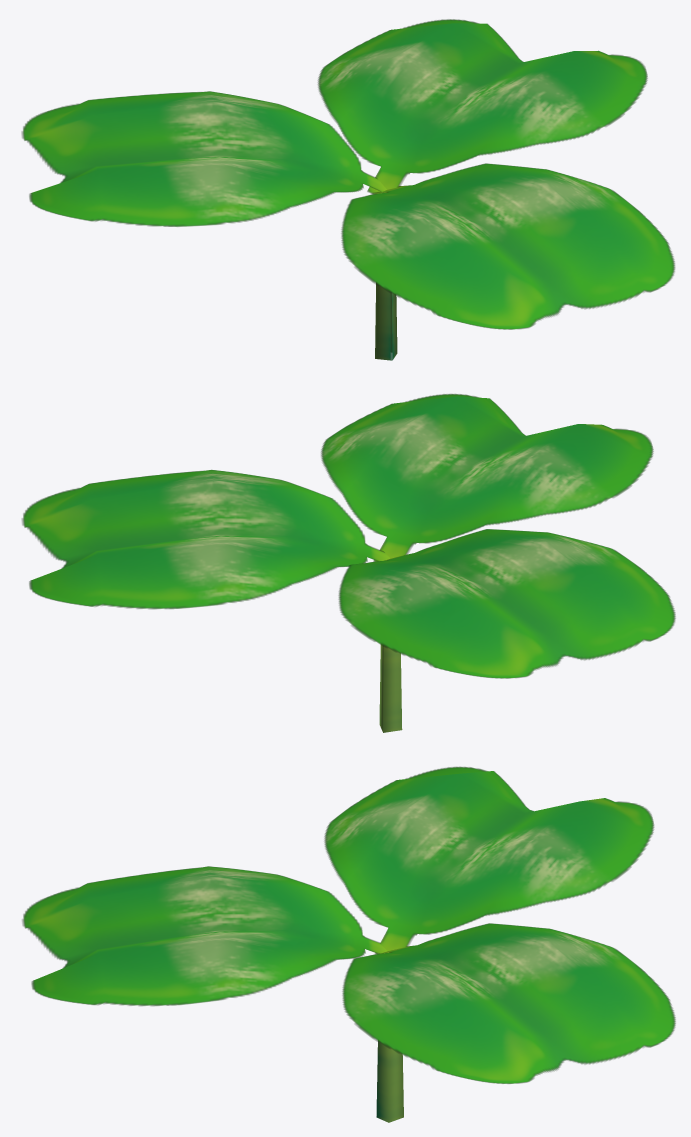
The model's file is clover_1.glb.
3 views of the same model, one above another, from view 1: azimuth 30°, elevation 25°; view 2: azimuth 150°, elevation 25°; view 3: azimuth 270°, elevation 25° (orthographic).
Visible parts, largest first — view 1: clover_1; view 2: clover_1; view 3: clover_1.
Boxes of the visible parts, <box> form: clover_1: <box>21,19,675,360</box>; clover_1: <box>22,394,675,732</box>; clover_1: <box>22,766,675,1122</box>.
Bounding box in the file's own units: 0.00638 × 0.00217 × 0.00575.
1 material, 1 textured.
